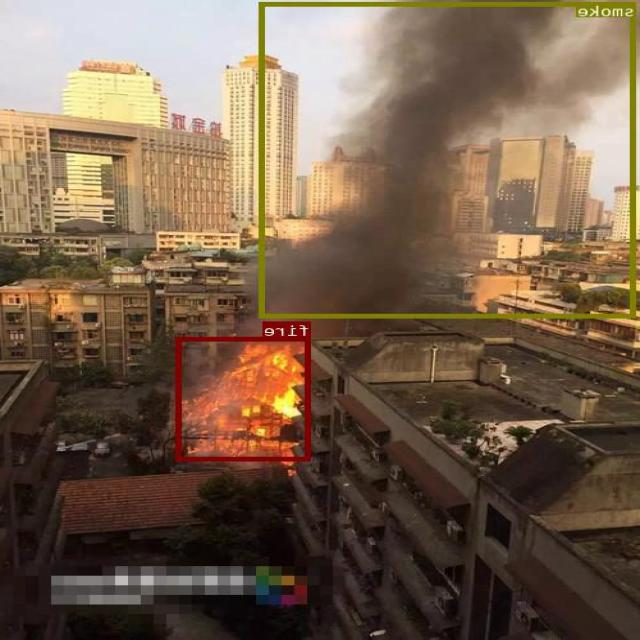fire: (177, 336, 312, 460)
smoke: (260, 1, 637, 317)
